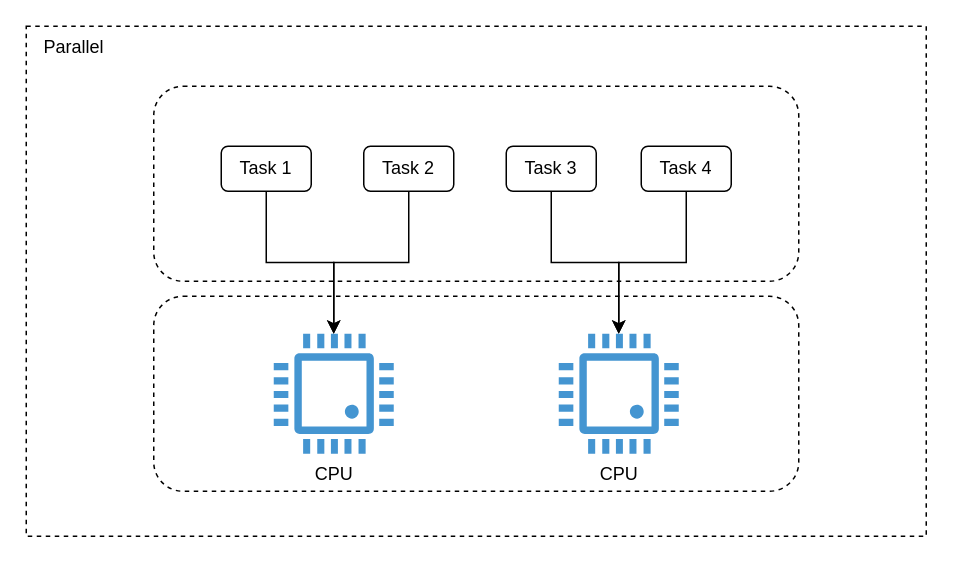
This 953x563 diagram has some shape labels left out. The box of each missing label's shape, as (x1, y1, x2, y2) in pixels:
Process: (152, 85, 799, 281)
Processors: (152, 295, 799, 491)
